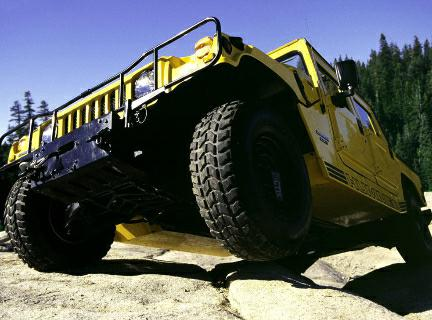红旗-H7: (6, 32, 430, 274)
